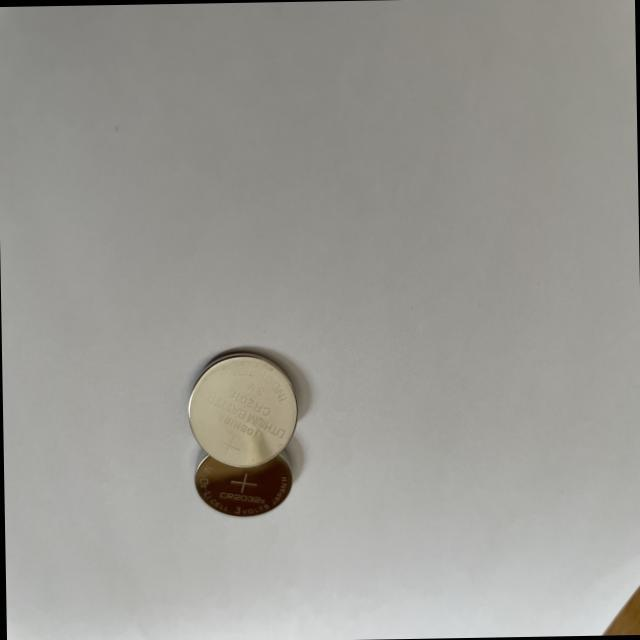COIN: (186, 346, 296, 468), (195, 448, 292, 518)
